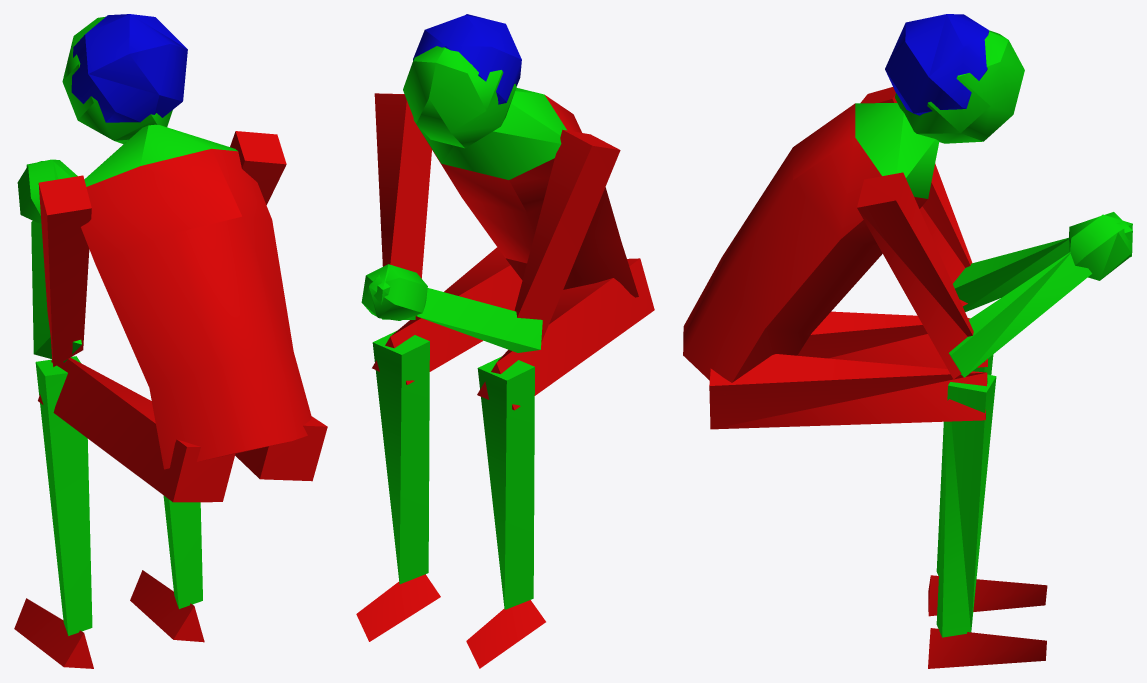
File: sit_lean_lod1.glb
The picture shows the model from 3 angles, left to right: view 1: azimuth 30°, elevation 25°; view 2: azimuth 150°, elevation 25°; view 3: azimuth 270°, elevation 25°; orthographic projection. The views are drawn at different scales.
Visible parts, largest first — view 1: OUT_1; view 2: OUT_1; view 3: OUT_1.
Boxes of the visible parts, <box> form: OUT_1: <box>14,14,327,668</box>; OUT_1: <box>356,14,654,668</box>; OUT_1: <box>683,14,1132,668</box>.
Size of the model in its own units: 0.4864 by 1.21 by 0.7911.
